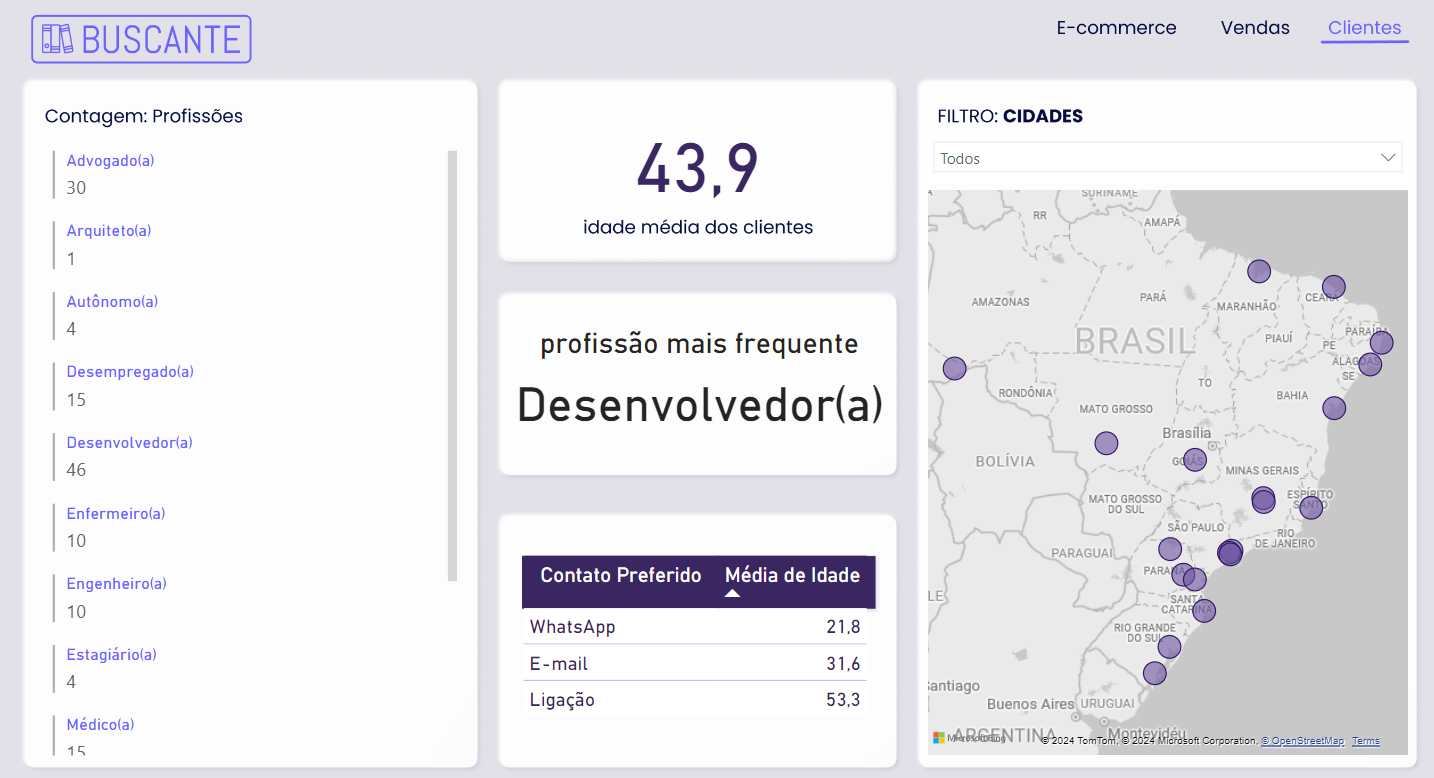

This screenshot's page, from the dashboard's own definition file:
{"tool":"powerbi","page":{"name":"Cliente","canvas":[1280,720],"ordinal":2},"visuals":[{"type":"multiRowCard","fields":{"Values":["Clientes.Profissão","CountNonNull(Clientes.Profissão)"]},"box":[30.2,128.4,393.9,553.4],"z":0},{"type":"card","title":"Profissão que mais aparece","fields":{"Values":["Min(Clientes.Profissão)"]},"box":[441.7,262.8,356.7,165.9],"z":1},{"type":"map","fields":{"Y":["Clientes.Latitude"],"X":["Clientes.Longitude"]},"box":[814.4,173.9,434.7,507.6],"z":2},{"type":"slicer","fields":{"Values":["Clientes.Cidade"]},"box":[821.4,126.9,357.7,59],"z":3},{"type":"tableEx","fields":{"Values":["Clientes.Contato Preferido","Clientes.Idade"]},"box":[524.6,506.6,173.9,151.9],"z":4},{"type":"card","fields":{"Values":["Avg(Clientes.Idade)"]},"box":[441.7,73.9,357.7,121.9],"z":5},{"type":"actionButton","box":[929.3,16,120.9,40],"z":6},{"type":"actionButton","box":[1067.2,16,82.9,40],"z":7}]}

Visuals, with their boxes on the page's 1280x720 design canvas (x1, y1, x2, y2). These are canvas units, not pixel positions in the 1434x778 screenshot, which may show the page scaled, cropped or inside an application window:
multiRowCard - Clientes.Profissão x CountNonNull(Clientes.Profissão): bbox=(30, 128, 424, 682)
"Profissão que mais aparece" card: bbox=(442, 263, 798, 429)
map - Clientes.Latitude x Clientes.Longitude: bbox=(814, 174, 1249, 682)
slicer - Clientes.Cidade: bbox=(821, 127, 1179, 186)
tableEx - Clientes.Contato Preferido x Clientes.Idade: bbox=(525, 507, 698, 658)
card - Avg(Clientes.Idade): bbox=(442, 74, 799, 196)
actionButton: bbox=(929, 16, 1050, 56)
actionButton: bbox=(1067, 16, 1150, 56)
